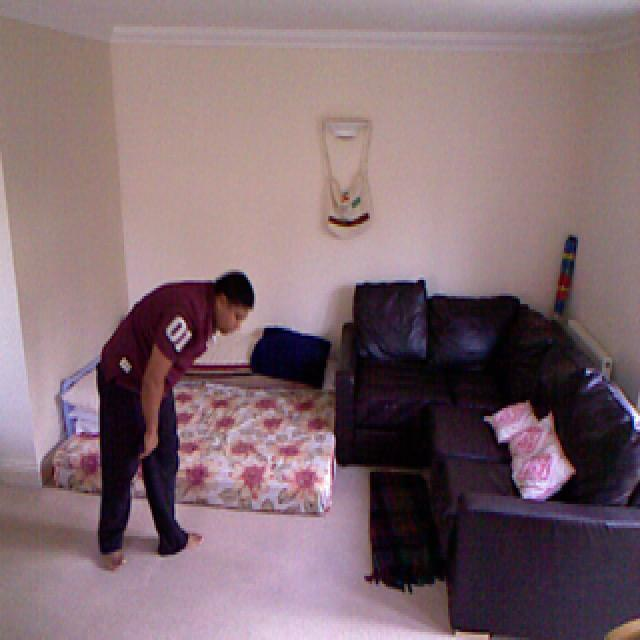NotFall: (50, 209, 253, 568)
